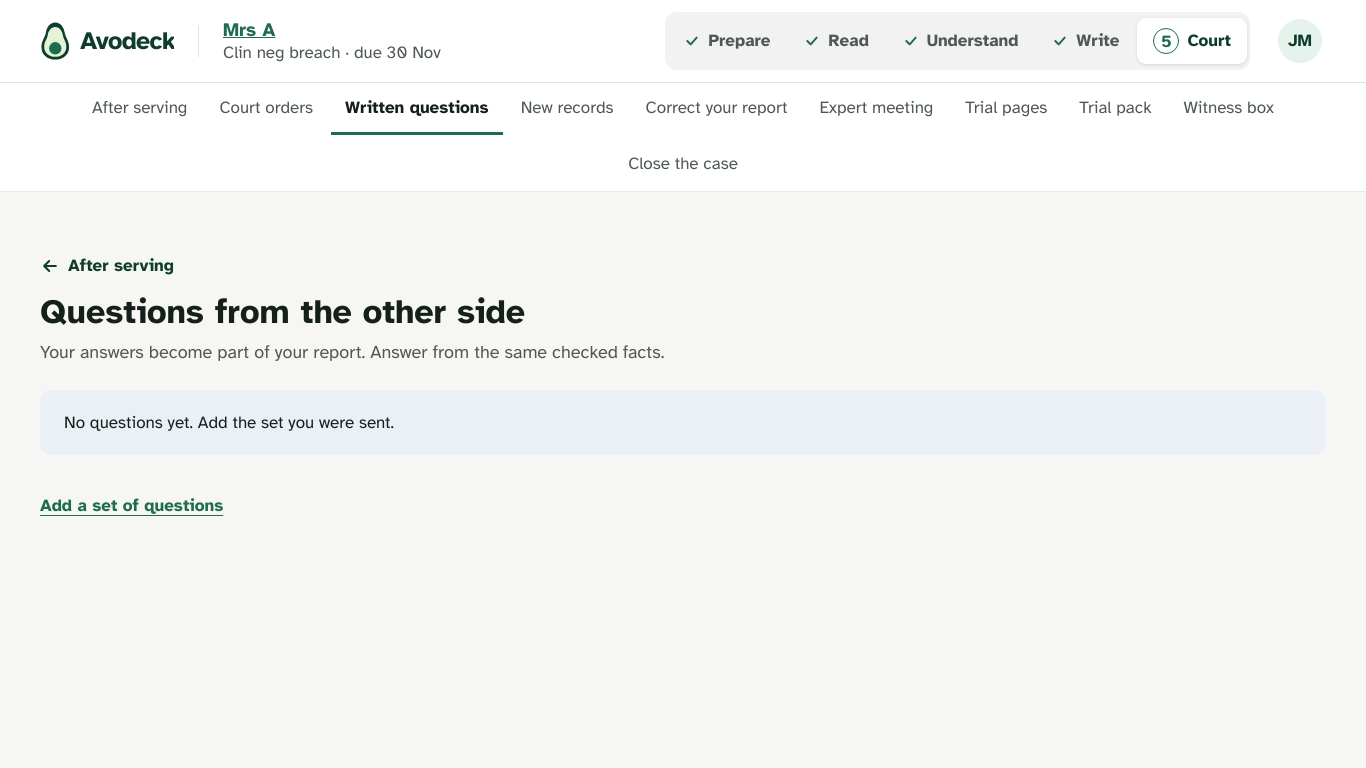
Test case: without a file to add, the add button is off and says why
Click the button "Add a set of questions": click(132, 505) top-left (40, 479), bottom-right (223, 531)
(page scrolled)
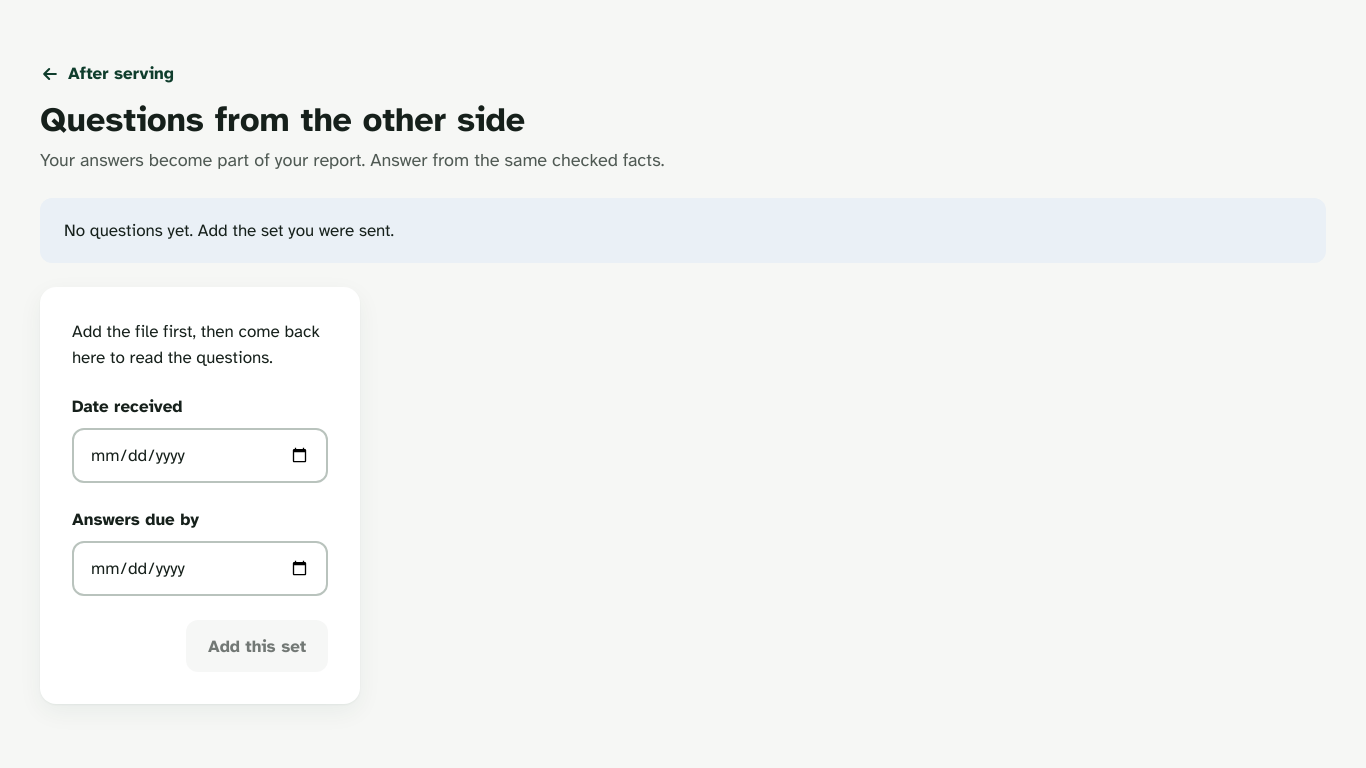
Expected: the text "Add the file first, then come back here to read the questions." is shown, top-left (72, 319), bottom-right (328, 370)
Expected: the button "Add this set" is disabled, top-left (186, 620), bottom-right (328, 672)
